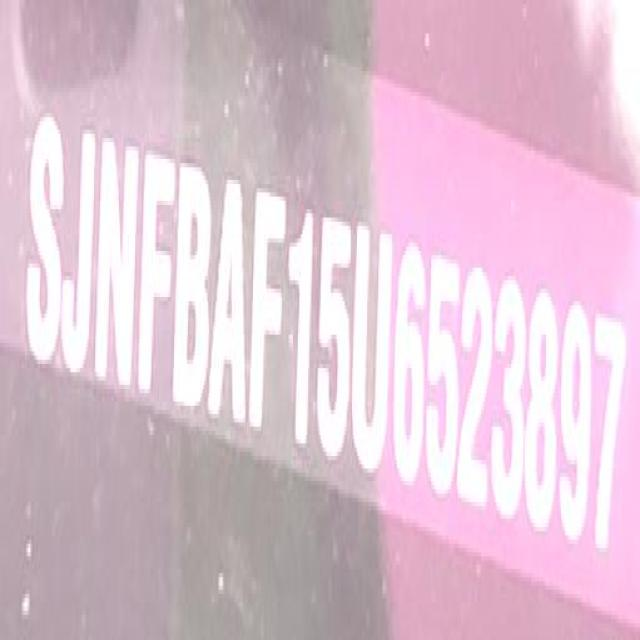1: (287, 195, 317, 463)
2: (459, 260, 495, 515)
3: (491, 276, 527, 528)
5: (314, 208, 352, 472), (425, 246, 460, 507)
6: (390, 239, 428, 495)
7: (593, 308, 633, 562)
8: (522, 285, 560, 535)
9: (557, 304, 594, 549)
A: (207, 177, 249, 437)
B: (175, 156, 215, 422)
F: (138, 145, 177, 410), (249, 180, 287, 447)
J: (59, 118, 98, 373)
N: (96, 130, 142, 389)
S: (21, 107, 62, 370)
U: (355, 222, 390, 489)
